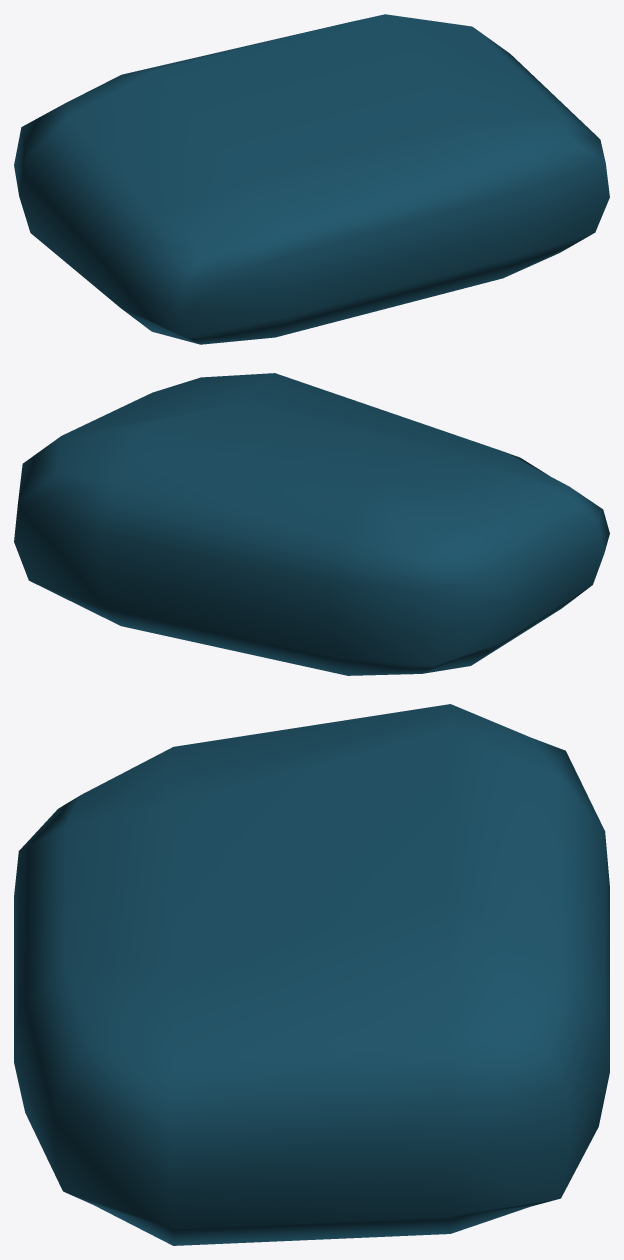
The model's file is Blue_Pillow.glb.
3 renders of one model, top to bottom at view 1: azimuth 30°, elevation 25°; view 2: azimuth 150°, elevation 25°; view 3: azimuth 270°, elevation 25°, orthographic. The views are drawn at different scales.
Visible parts, largest first — view 1: roofroom_pillowblue_geo; view 2: roofroom_pillowblue_geo; view 3: roofroom_pillowblue_geo.
Boxes of the visible parts, x1,y1,x2,y2 form: roofroom_pillowblue_geo: (14, 14, 609, 344); roofroom_pillowblue_geo: (14, 373, 609, 675); roofroom_pillowblue_geo: (14, 704, 609, 1245).
Bounding box in the file's own units: 0.6605 × 0.2404 × 0.4473.
1 material, 1 textured.
